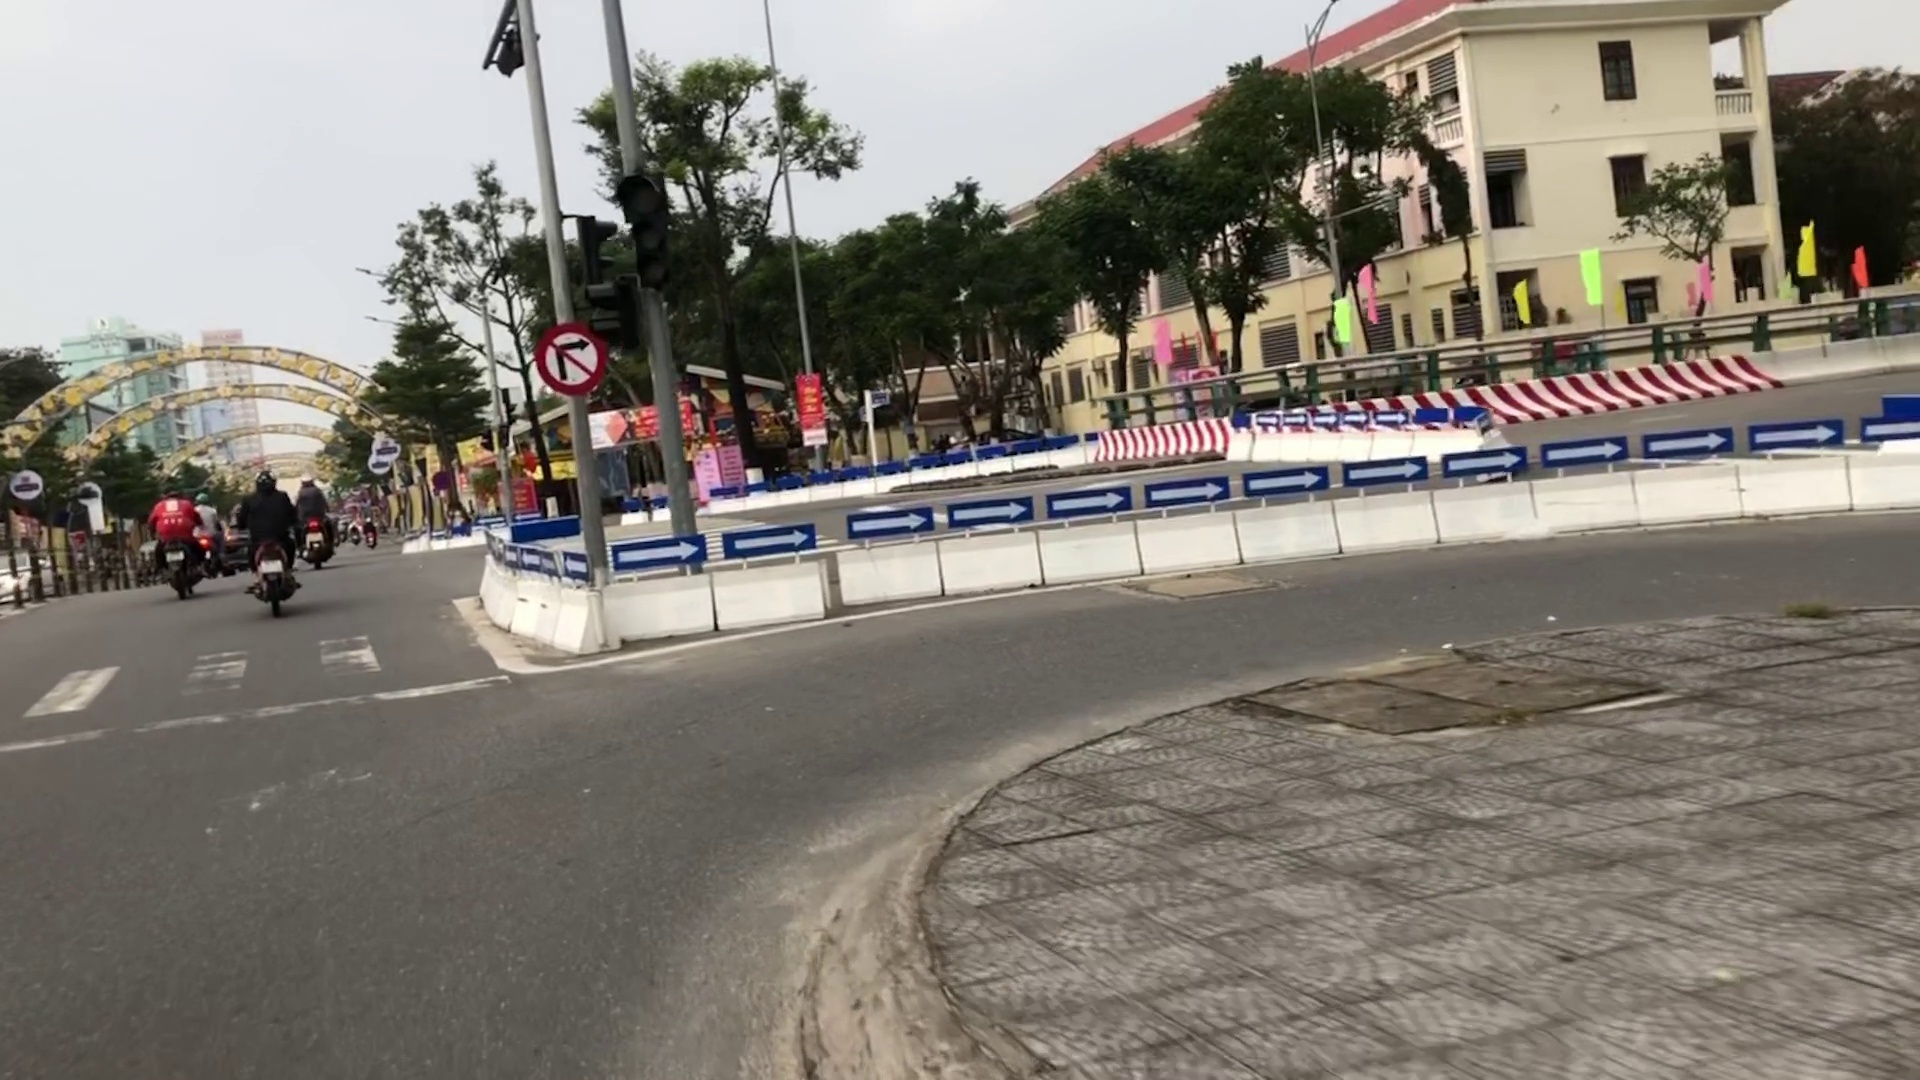Bien khac: (529, 320, 611, 396)
